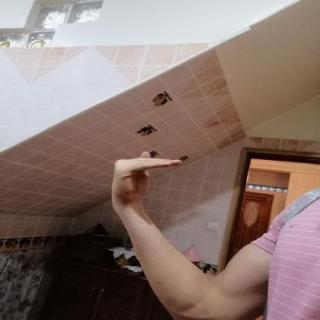KHAA: (102, 145, 193, 217)
